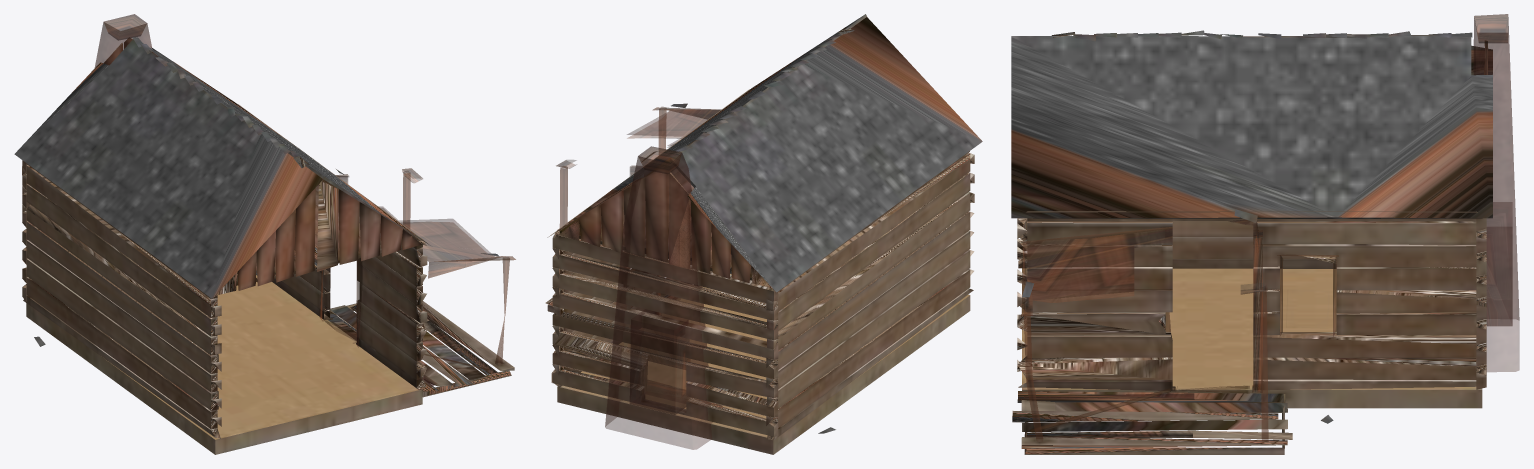
Rendered from ruined-cabin.zfix-v14.lod1.glb.
The picture shows the model from 3 angles, left to right: view 1: azimuth 30°, elevation 25°; view 2: azimuth 150°, elevation 25°; view 3: azimuth 270°, elevation 25°; orthographic projection. The views are drawn at different scales.
Visible parts, largest first — view 1: Foundation.003_2.001_0, WallShortRight.004_1.001_0, OutRoof.003_3.001_0; view 2: WallShortRight.004_1.001_0, Foundation.003_2.001_0, OutRoof.003_3.001_0; view 3: Foundation.003_2.001_0, WallShortRight.004_1.001_0, OutRoof.003_3.001_0.
Part boxes in pixels (x1,y1,x2,y2): Foundation.003_2.001_0: (14, 37, 514, 454); WallShortRight.004_1.001_0: (22, 37, 427, 438); OutRoof.003_3.001_0: (94, 14, 515, 387); WallShortRight.004_1.001_0: (551, 89, 974, 440); Foundation.003_2.001_0: (545, 14, 982, 454); OutRoof.003_3.001_0: (556, 106, 722, 449); Foundation.003_2.001_0: (1011, 30, 1492, 454); WallShortRight.004_1.001_0: (1017, 40, 1487, 391); OutRoof.003_3.001_0: (1021, 14, 1519, 441).
Bounding box in the file's own units: 5.37 × 4.23 × 5.98.
3 materials, 3 textured.
